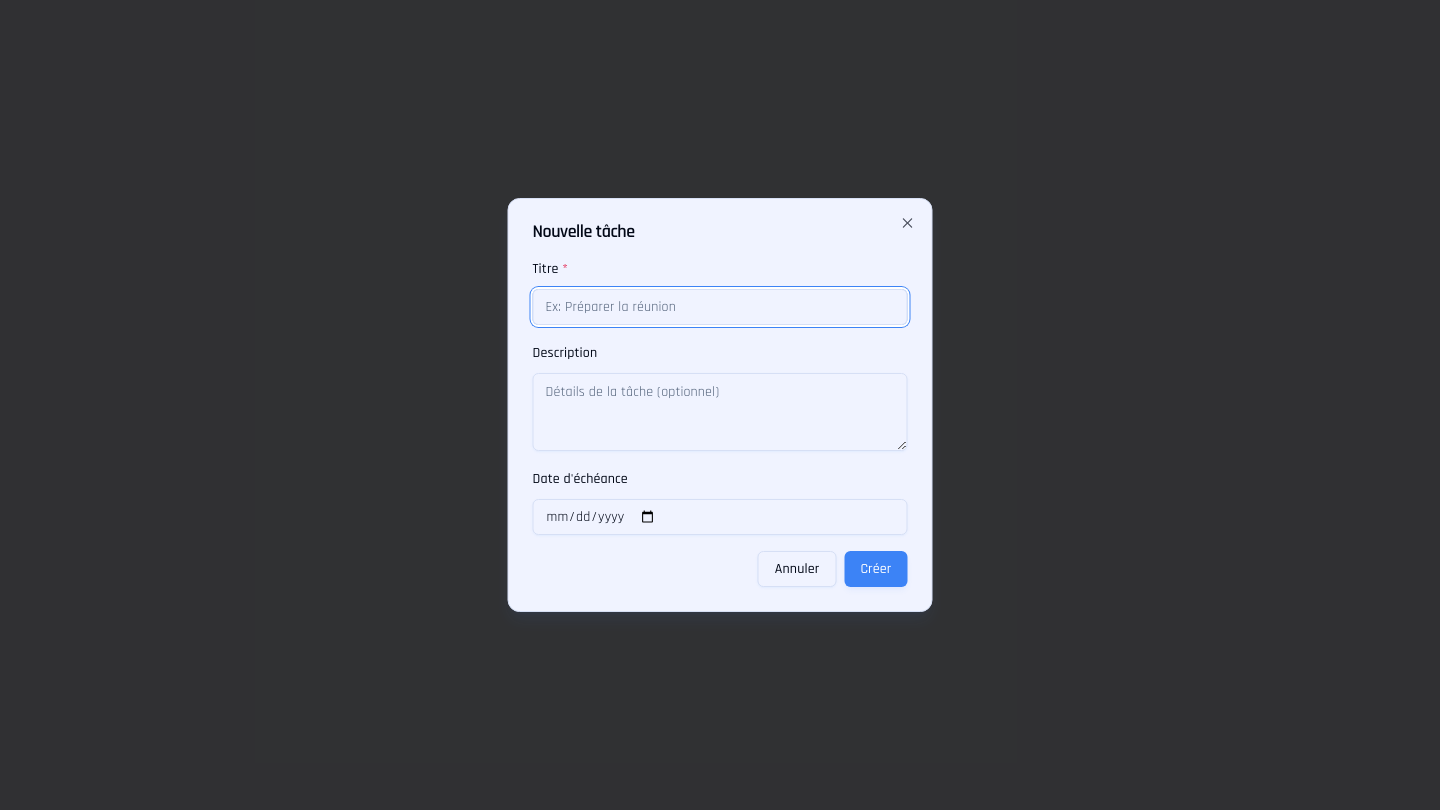
Test case: PersonalTaskForm › validation : titre requis
Step 1. Click the button with test id "task-submit-button" → coordinates (876, 569), box [844,551,908,587]
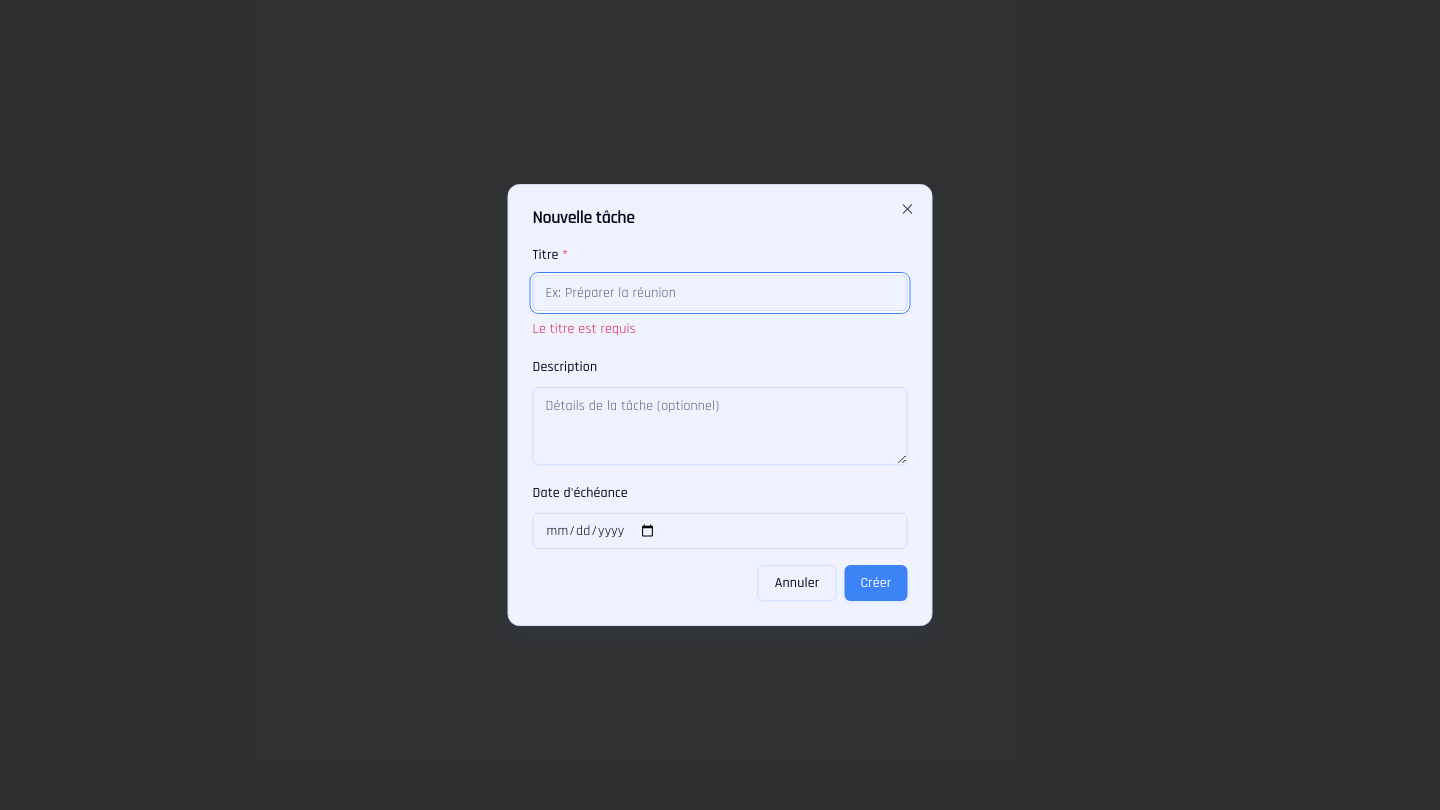
Expected: the text "Le titre est requis" is shown, [532,320,636,338]
